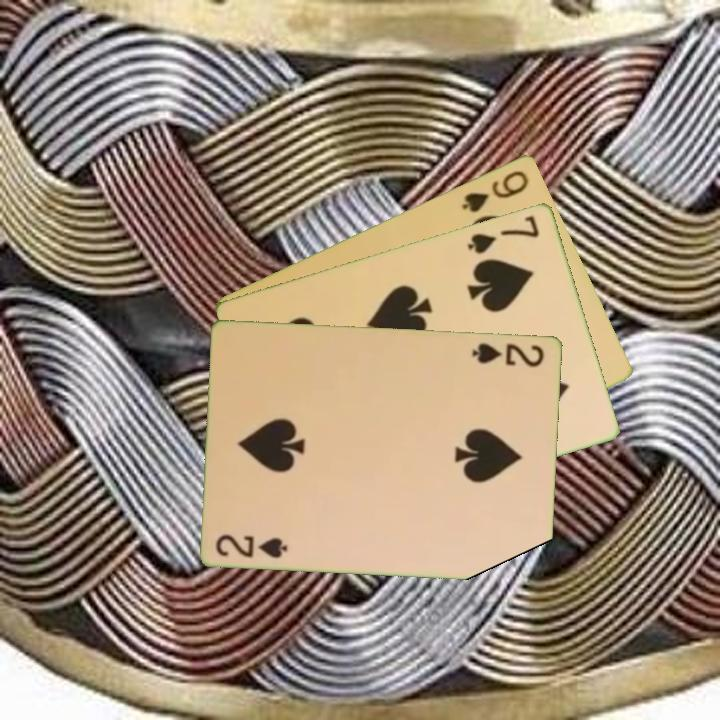2s: (468, 339, 548, 370), (212, 530, 291, 561)
7s: (464, 211, 543, 256)
9s: (458, 166, 532, 215)
